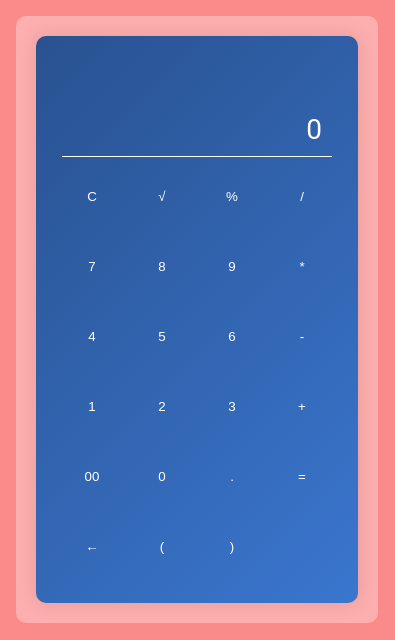
Scenario: Calculator Component › performs multiplication correctly
Click the button "3". click: x=232, y=406
box: 202,376 -> 262,436
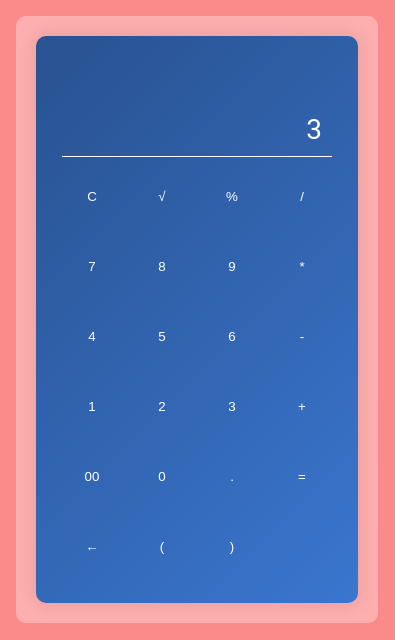
Click the button "*". click: x=302, y=266
box: 272,236 -> 332,296
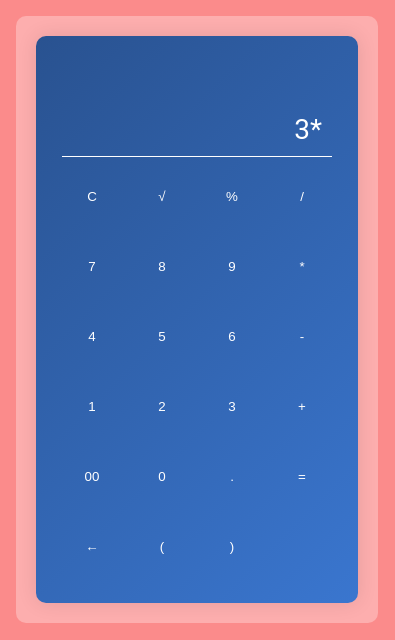
Click the button "2". click: x=162, y=406
box: 132,376 -> 192,436
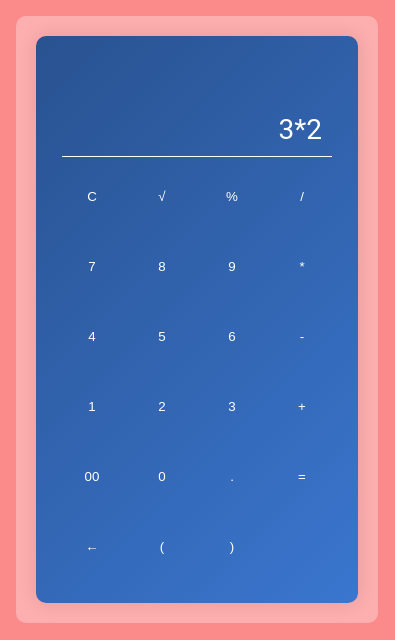
Click the button "=". click: x=302, y=476
box: 272,446 -> 332,506
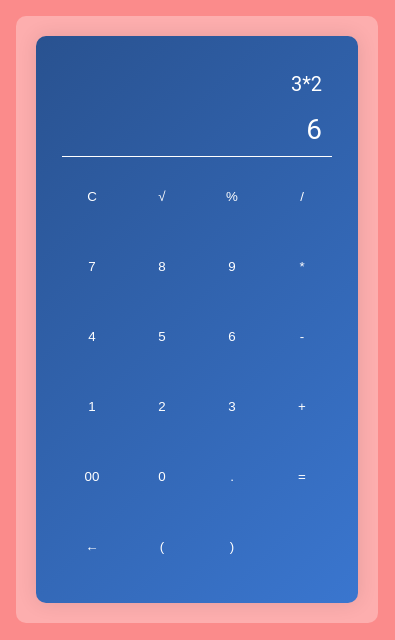
Expected: the text "6" is shown, 306,112 -> 322,146
